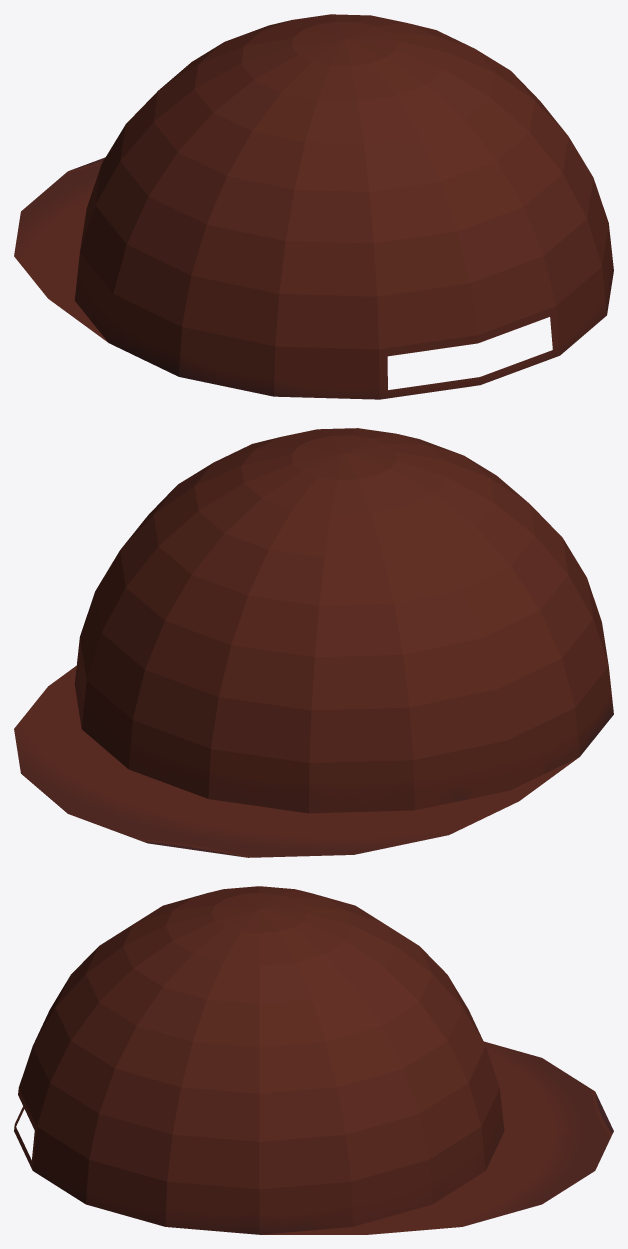
The model's file is capHat.fbx.
3 renders of one model, top to bottom at view 1: azimuth 30°, elevation 25°; view 2: azimuth 150°, elevation 25°; view 3: azimuth 270°, elevation 25°, orthographic. The views are drawn at different scales.
Parts seen in each view (by area): view 1: Cap; view 2: Cap; view 3: Cap.
Boxes of the visible parts, bbox=[...] form: Cap: bbox=[14, 14, 613, 399]; Cap: bbox=[14, 428, 613, 857]; Cap: bbox=[14, 886, 613, 1234].
Size of the model in its own units: 1 by 1.22 by 0.5.
